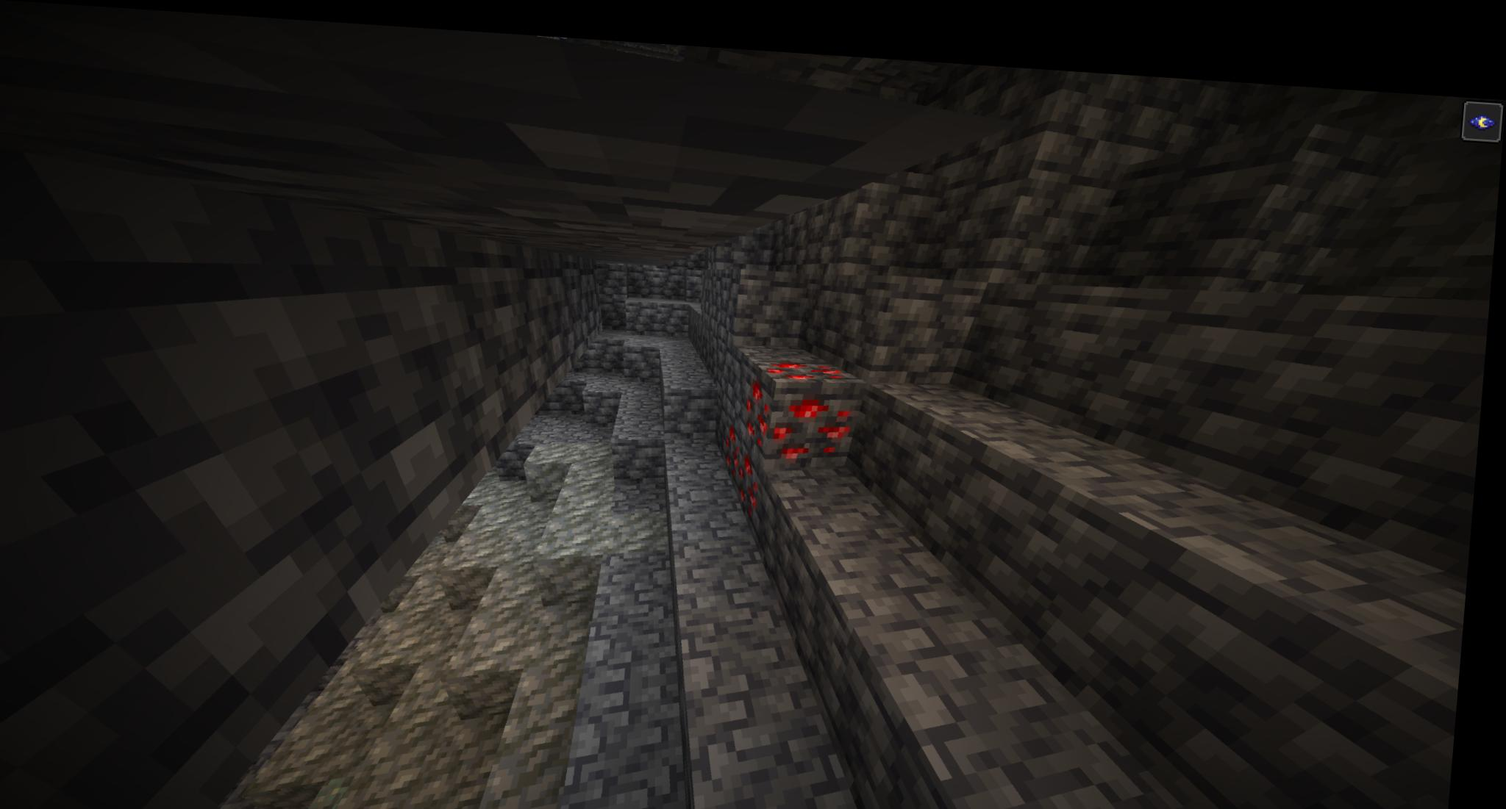redstone ore: (749, 353, 862, 454), (738, 437, 772, 505), (724, 417, 753, 470)
